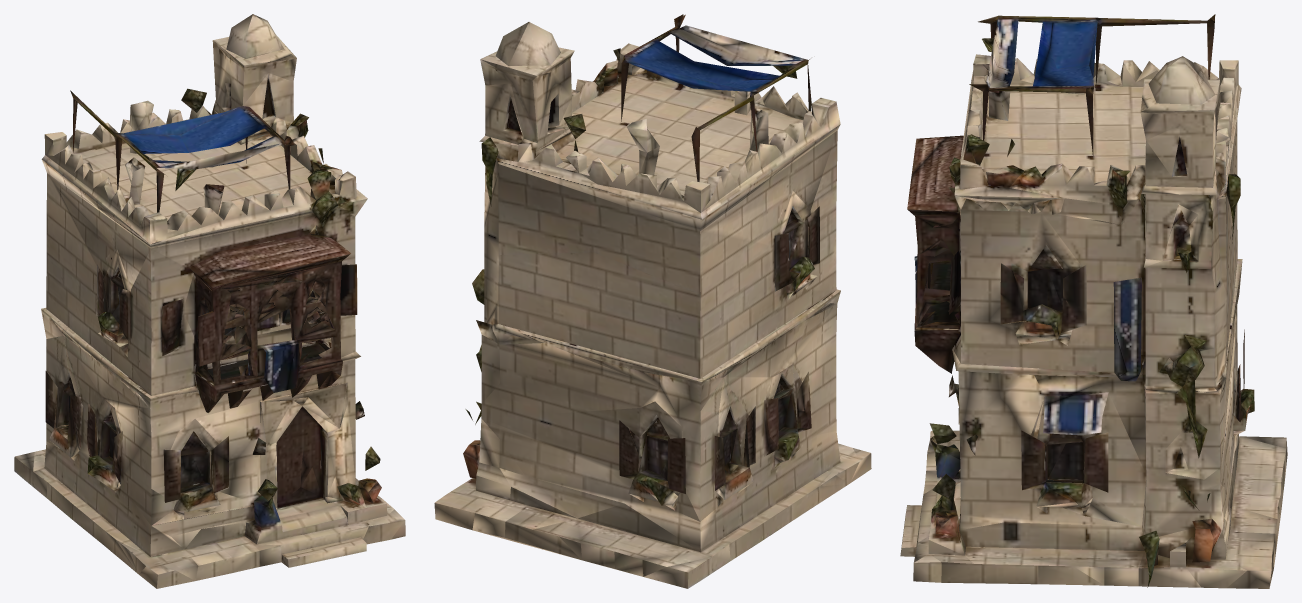
Rendered from house-5-lod2.glb.
The picture shows the model from 3 angles, left to right: view 1: azimuth 30°, elevation 25°; view 2: azimuth 150°, elevation 25°; view 3: azimuth 270°, elevation 25°; orthographic projection. The views are drawn at different scales.
Bounding box in the file's own units: 5.85 × 9.57 × 6.62.
Materials: 1 (1 with a texture image).
